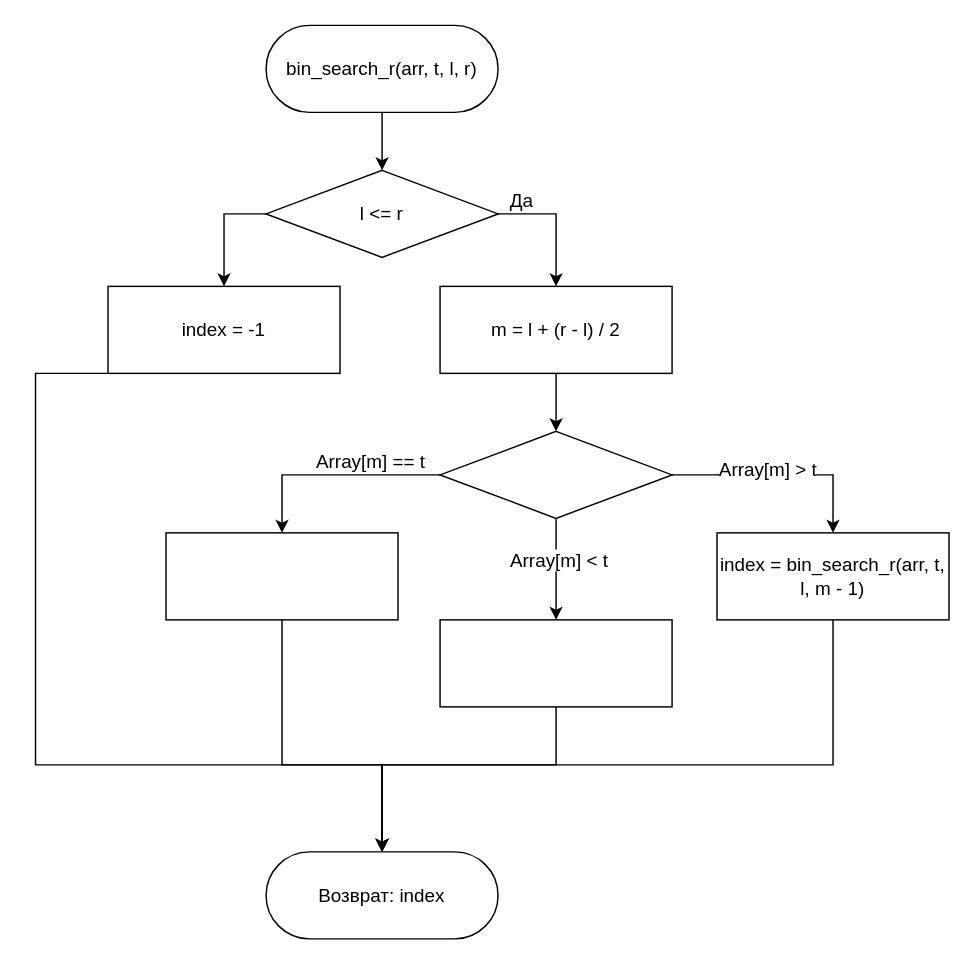
This 974x964 diagram has some shape labels left out. The shapes that lost their labels are listed below. From the top down, each one's centre as x and y in pixels, then its label:
At (x=555, y=474): "Сравнить array[m], t".
At (x=281, y=575): "index = m".
At (x=555, y=662): "index = bin_search_r(arr, t, m + 1, r)".
